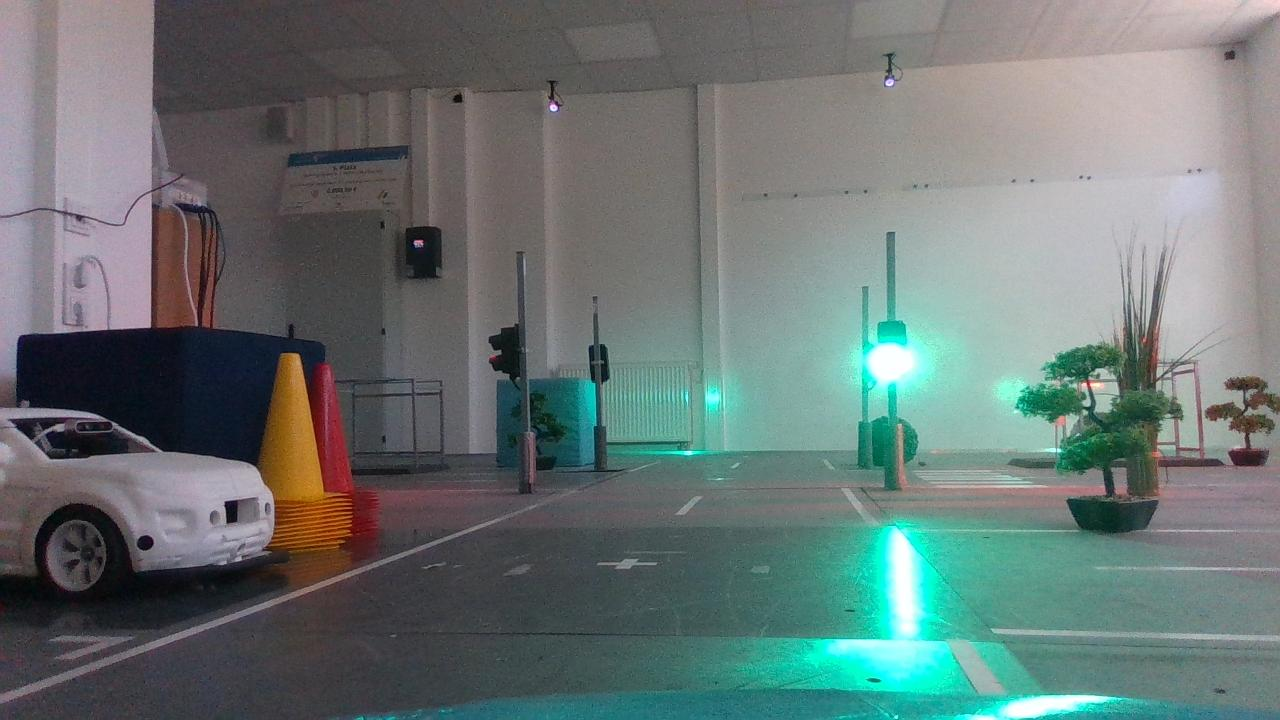traffic_light_green: (864, 309, 920, 391)
